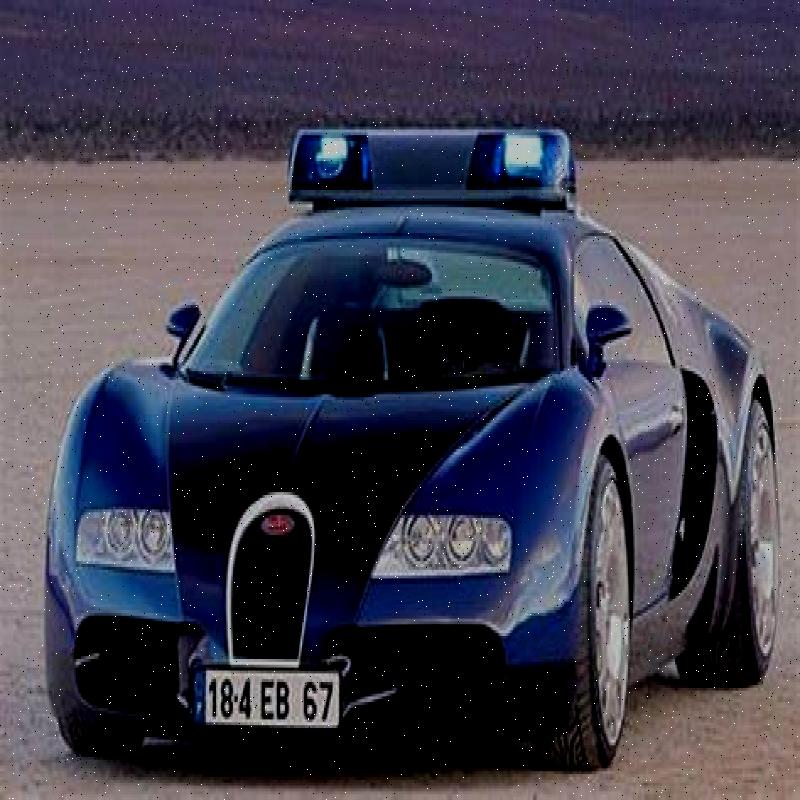AmbulanceSiren: (288, 104, 580, 202)
car: (76, 177, 776, 702)
